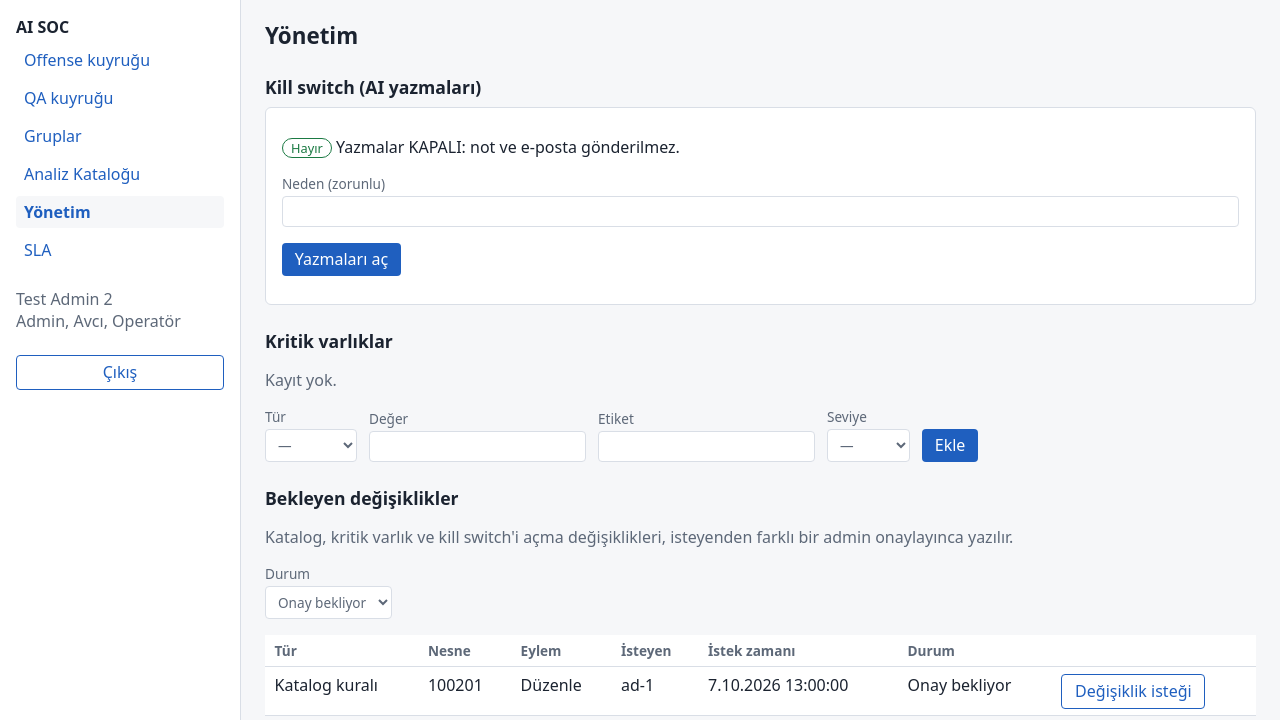
pending changes (T-033 criterion 5) › approves a request another admin made
Click the button "Değişiklik isteği" at (1133, 691), box [1061,674,1205,709]
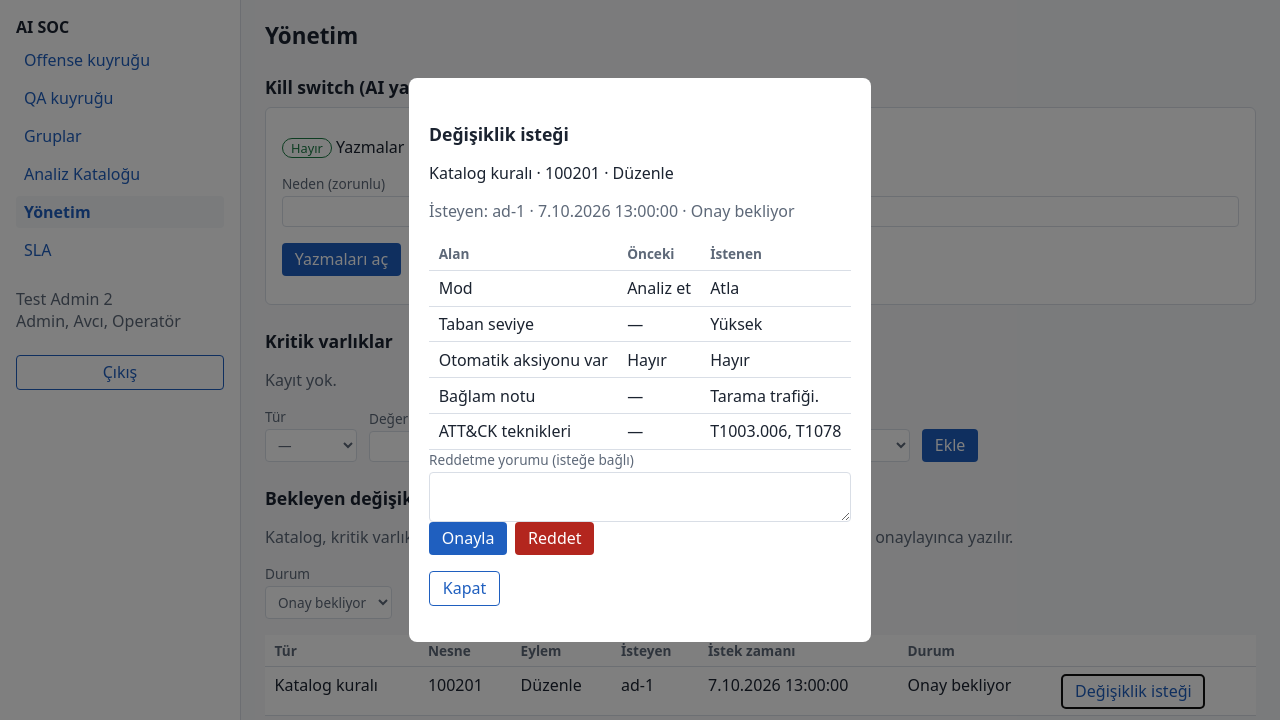
Click the button "Onayla" at (468, 538), box [429,522,507,555]
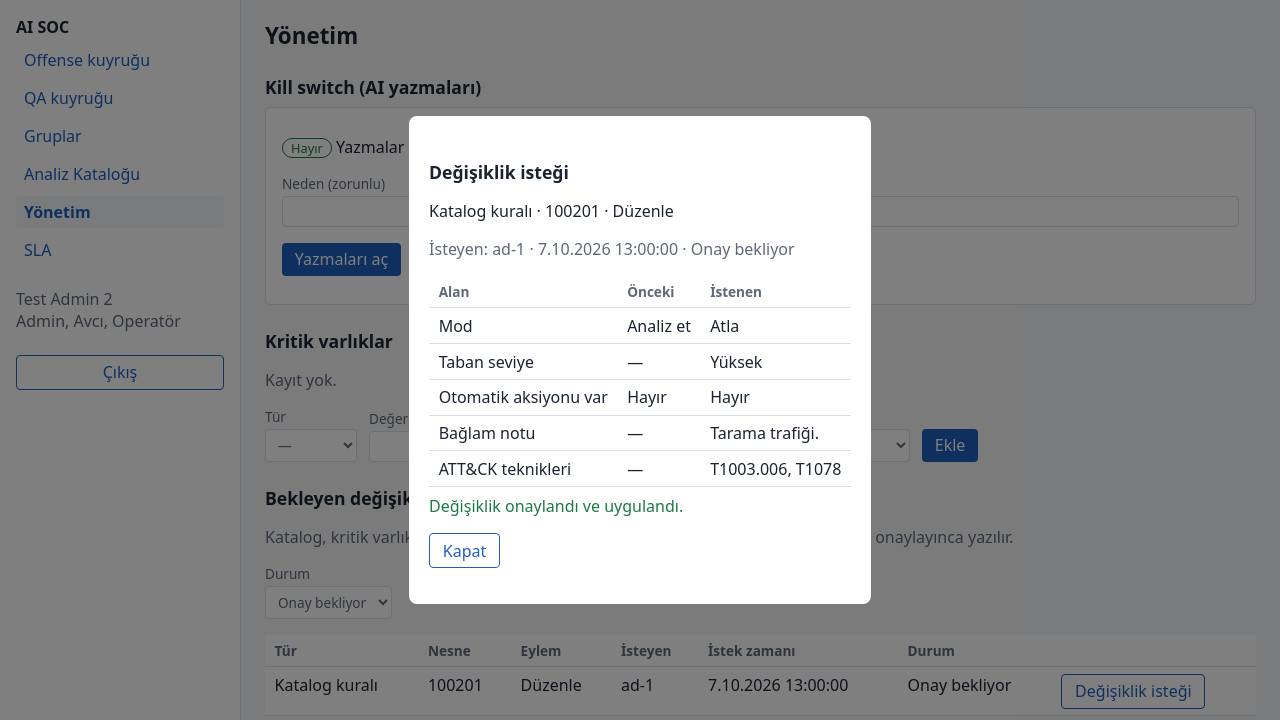
Check: the text "Değişiklik onaylandı ve uygulandı." is shown, box [429,495,683,517]
